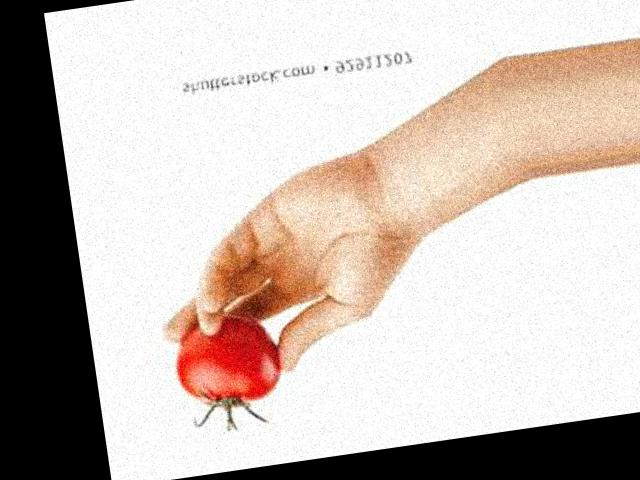tomato: (169, 307, 285, 410)
